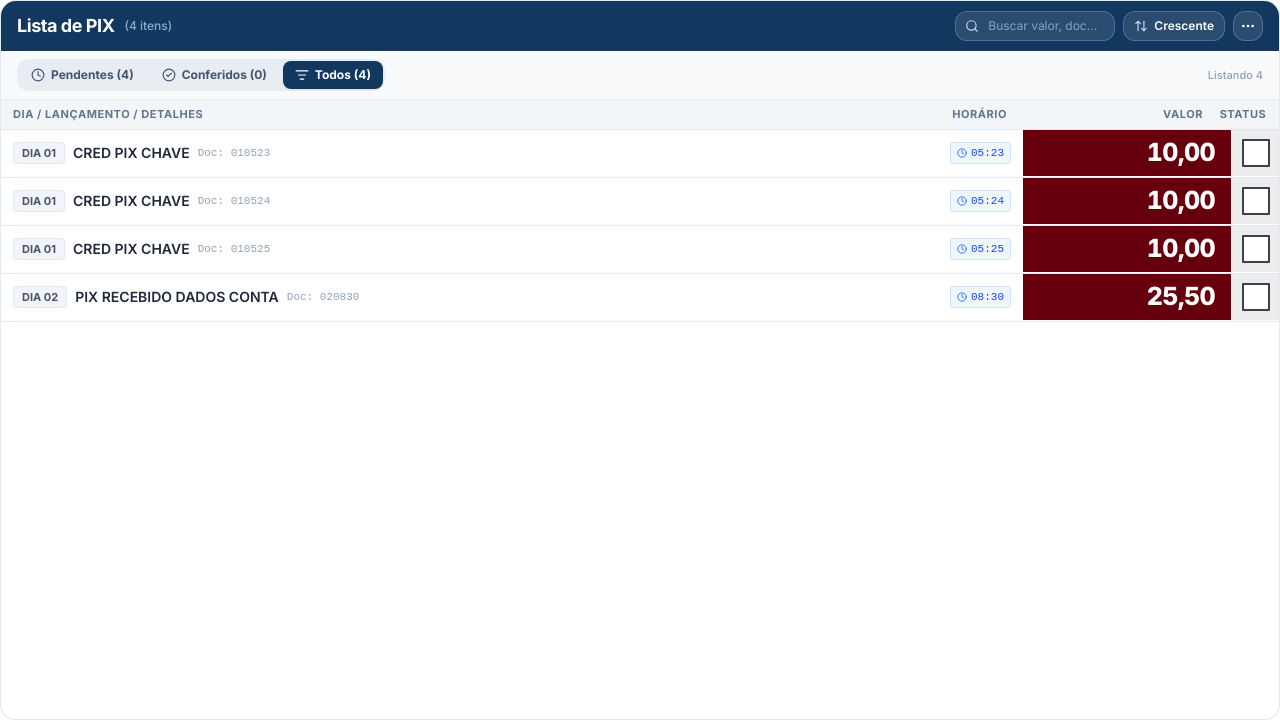
it: ConferenceList Component & Checkbox Bug Regression Tests › calculates financial summary correctly and displays formatted BRL string upon selection
This screenshot has width=1280, height=720.
Click the element with id "tx-row-tx_1". click: [640, 154]
box: [1, 130, 1279, 178]
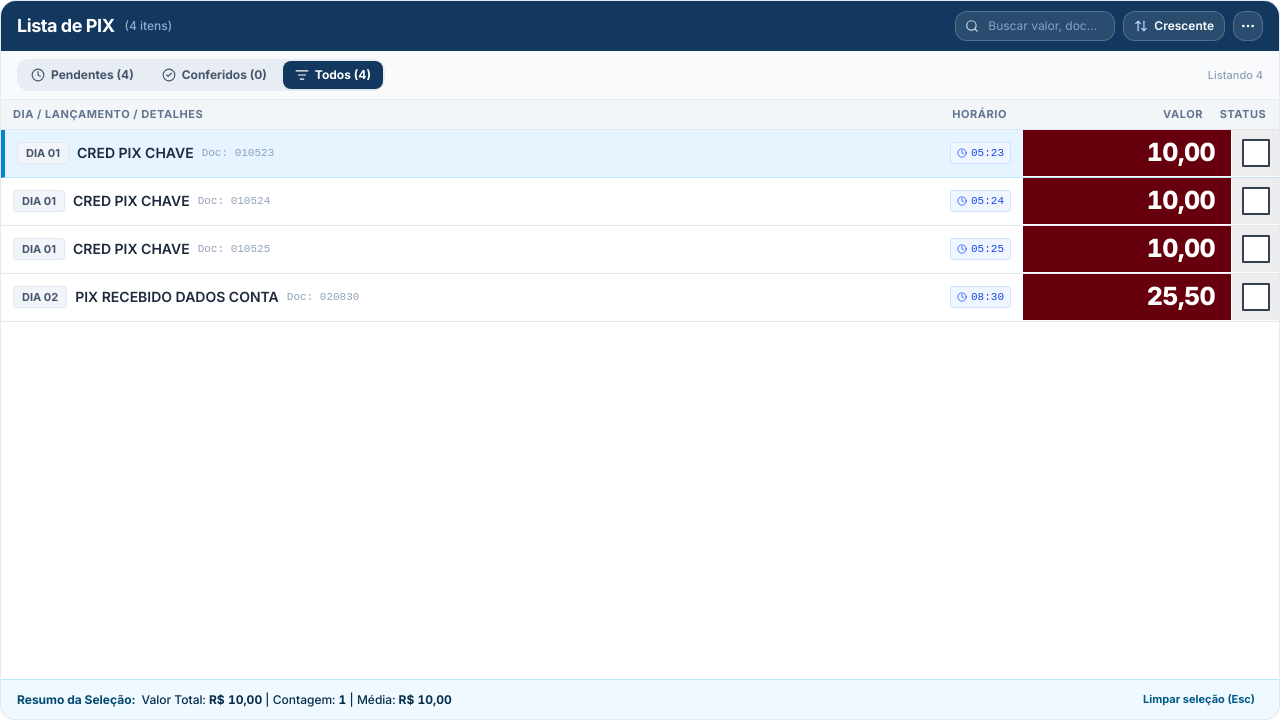
// Ctrl+click row 4 (valor 25.00)
Click the element with id "tx-row-tx_4". click: [640, 298]
box: [1, 274, 1279, 322]
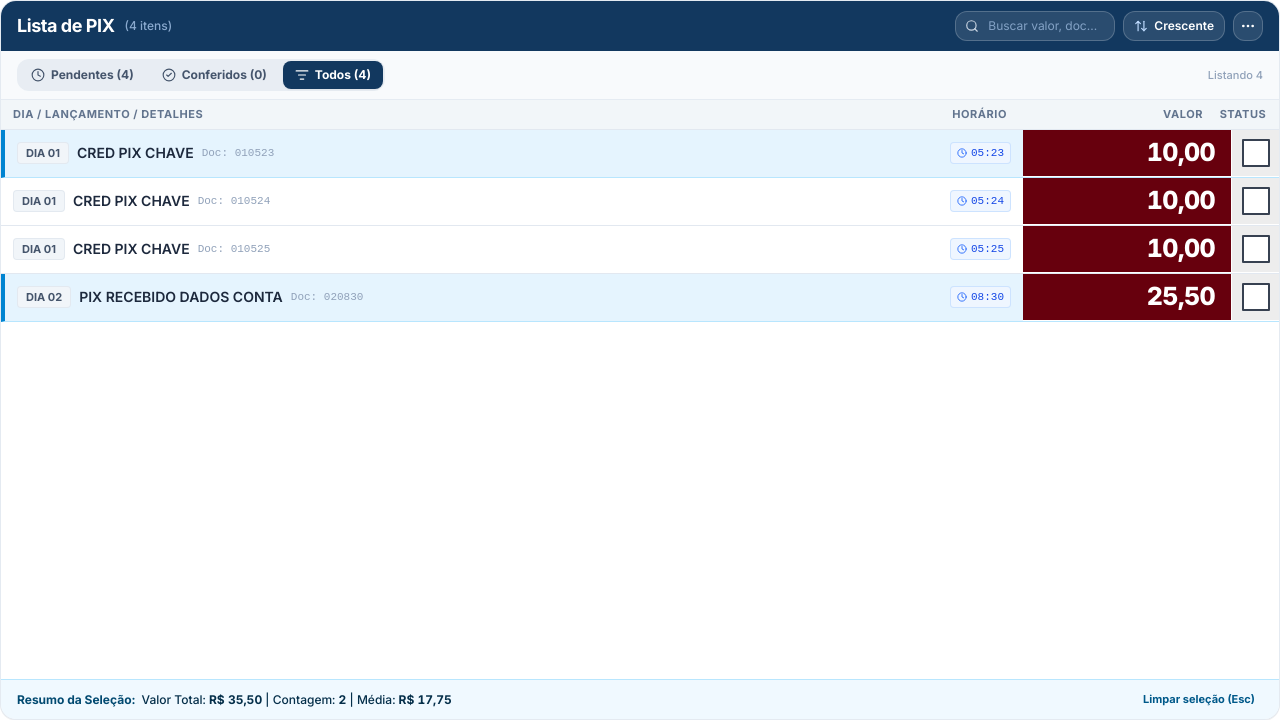
Expected: the text "Resumo da Seleção:" is shown, [17, 692, 136, 708]
Expected: the text "R$ 35,50" is shown, [209, 692, 262, 707]
Expected: the text "2" is shown, [338, 692, 346, 707]
// Clicking "Limpar seleção" clears the summary
Click the button "Limpar seleção (Esc)". click: [1199, 700]
box: [1135, 690, 1263, 709]
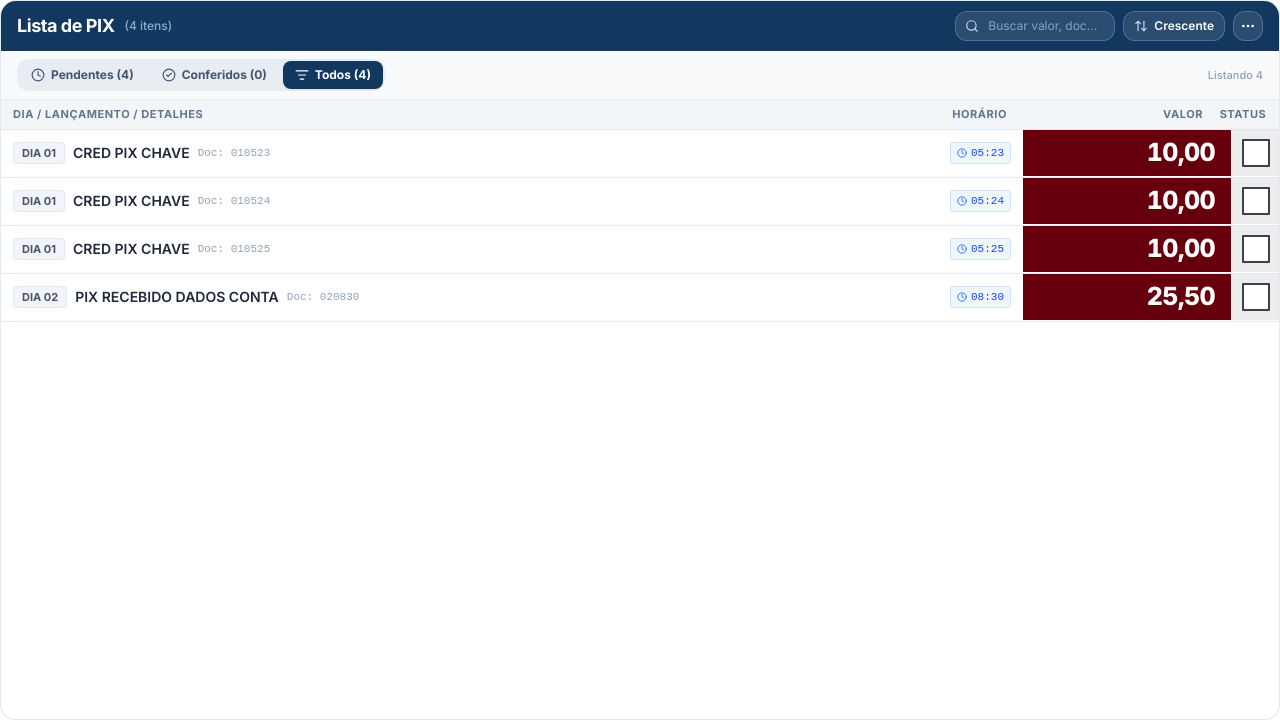
Expected: the text "Resumo da Seleção:" is gone
